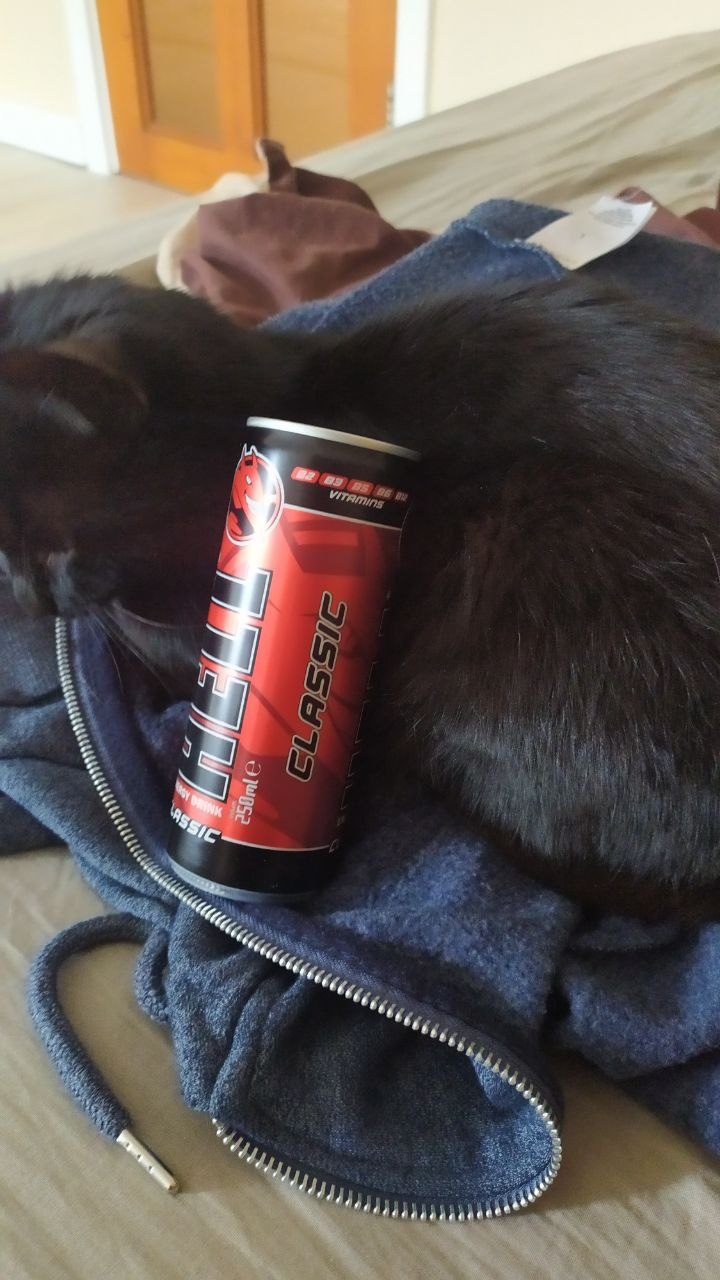Can: (164, 411, 421, 905)
